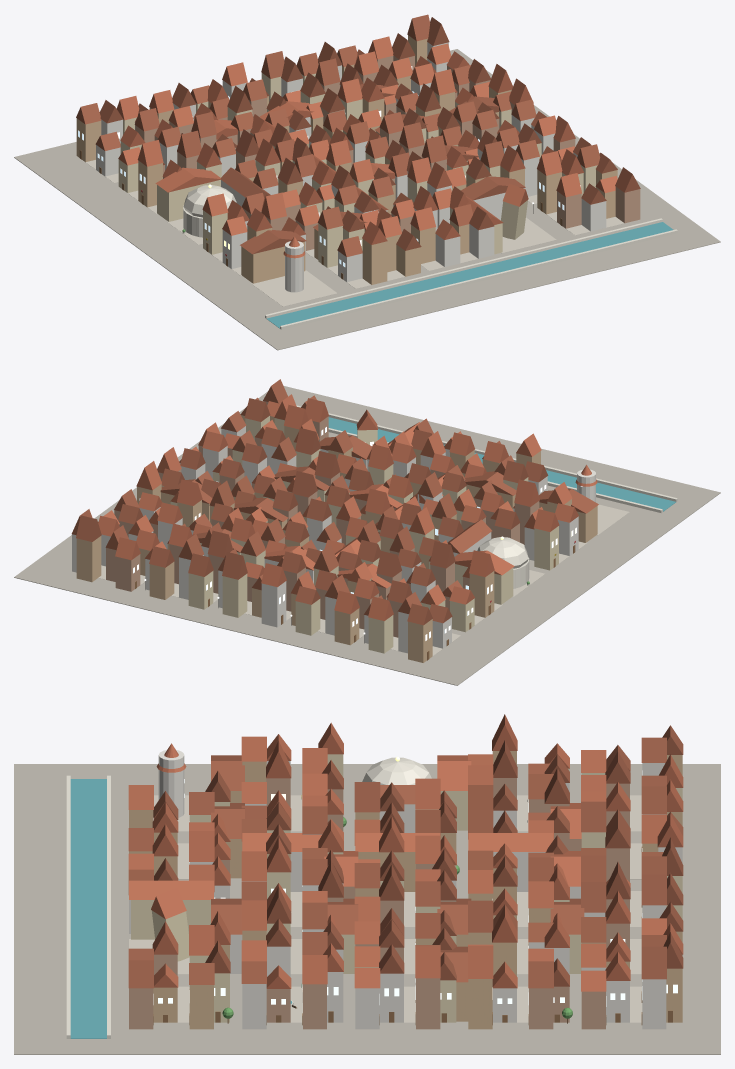
File: city.glb
The picture shows the model from 3 angles, top to bottom: view 1: azimuth 30°, elevation 25°; view 2: azimuth 150°, elevation 25°; view 3: azimuth 270°, elevation 25°; orthographic projection. The views are drawn at different scales.
Visible parts, largest first — view 1: Ground, Canal_Water, Canal_Embankment_S, Canal_Embankment_N, Sidewalk_0_0, Wall_179, House_2, Wall_187, Wall_187_roof, Wall_179_roof, House_103, RoundTower_1 (+20 smaller); view 2: Ground, Canal_Water, House_178, House_160, House_162, House_32, House_144, House_103, Landmark_Dome, Canal_Embankment_S, House_146, House_170 (+29 smaller); view 3: Ground, Canal_Water, Wall_181, Wall_181_roof, Wall_191_roof, Landmark_Dome, Canal_Embankment_S, House_94, House_132, House_174, RoundTower_1, House_97 (+106 smaller).
Boxes of the visible parts, box(x1,y1,x2,y2) form: Ground: box(14, 49, 720, 350); Canal_Water: box(266, 222, 673, 328); Canal_Embankment_S: box(280, 229, 677, 329); Canal_Embankment_N: box(265, 218, 662, 318); Sidewalk_0_0: box(251, 270, 337, 306); Wall_179: box(241, 241, 305, 283); House_2: box(362, 239, 387, 284); Wall_187: box(157, 180, 220, 221); Wall_187_roof: box(155, 167, 220, 192); Wall_179_roof: box(240, 230, 306, 254); House_103: box(138, 160, 162, 207); RoundTower_1: box(285, 241, 303, 292); Ground: box(14, 386, 720, 685); Canal_Water: box(328, 417, 675, 511); House_178: box(76, 536, 101, 582); House_160: box(261, 581, 286, 627); House_162: box(222, 574, 247, 617); House_32: box(534, 526, 558, 570); House_144: box(408, 619, 432, 662); House_103: box(469, 571, 494, 617); Landmark_Dome: box(477, 537, 528, 568); Canal_Embankment_S: box(296, 405, 677, 501); House_146: box(368, 615, 393, 653); House_170: box(149, 562, 174, 599); Ground: box(14, 764, 720, 1054); Canal_Water: box(70, 779, 106, 1038); Wall_181: box(131, 900, 210, 939); Wall_181_roof: box(129, 880, 213, 899); Wall_191_roof: box(468, 833, 553, 851); Landmark_Dome: box(362, 757, 431, 784); Canal_Embankment_S: box(66, 775, 70, 1038); House_94: box(415, 978, 440, 1029); House_132: box(468, 979, 492, 1029); House_174: box(642, 979, 666, 1029); RoundTower_1: box(158, 750, 184, 817); House_97: box(379, 973, 403, 1022).
Size of the model in its own units: 170 by 22.52 by 175.
